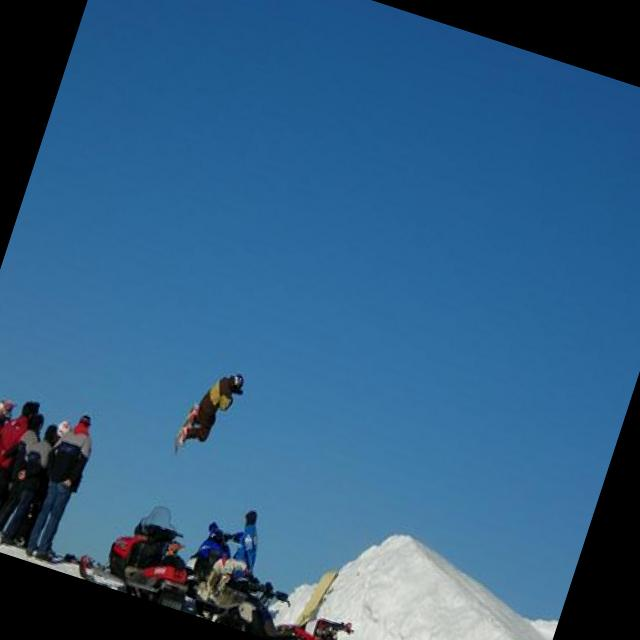Vehicle: (288, 607, 407, 640)
